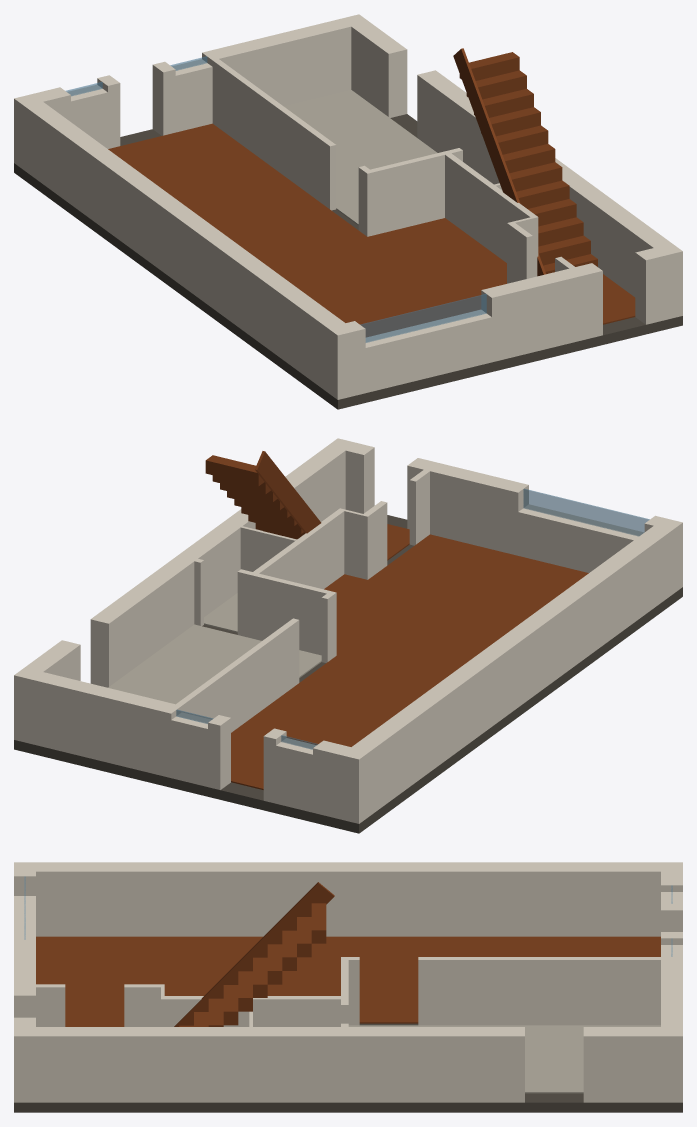
Rendered from house.obj.
3 views of the same model, one above another, from view 1: azimuth 30°, elevation 25°; view 2: azimuth 150°, elevation 25°; view 3: azimuth 270°, elevation 25° (orthographic). The views are drawn at different scales.
Parts seen in each view (by area): view 1: room_living_dining, gf_wall_party_seg0, gf_wall_kitchen_w_seg0, gf_wall_front_seg1, slab_ground, room_kitchen, gf_wall_front_sill0, gf_wall_kitchen_s_seg0, gf_wall_store_w_seg0, gf_wall_back_seg3b, gf_wall_side_seg0, gf_wall_front_seg2 (+28 smaller); view 2: room_living_dining, gf_wall_party_seg0, slab_ground, gf_wall_front_seg1, gf_wall_side_seg2, gf_wall_kitchen_w_seg0, room_kitchen, gf_wall_front_sill0, gf_wall_kitchen_s_seg0, gf_wall_back_seg3b, gf_wall_back_seg0, gf_wall_store_w_seg0 (+23 smaller); view 3: gf_wall_party_seg0, room_living_dining, gf_wall_side_seg2, gf_wall_kitchen_w_seg0, gf_wall_side_seg3, slab_ground, gf_wall_side_seg1b, gf_wall_side_seg0, room_kitchen, gf_wall_store_w_seg0, stair_stringer, gf_wall_back_seg4 (+22 smaller).
Part boxes in pixels (bbox=[...]): room_living_dining: bbox=[108, 123, 506, 337]; gf_wall_party_seg0: bbox=[24, 102, 345, 391]; gf_wall_kitchen_w_seg0: bbox=[212, 59, 336, 210]; gf_wall_front_seg1: bbox=[481, 263, 602, 362]; slab_ground: bbox=[14, 114, 682, 409]; room_kitchen: bbox=[284, 90, 437, 225]; gf_wall_front_sill0: bbox=[365, 310, 491, 392]; gf_wall_kitchen_s_seg0: bbox=[364, 148, 462, 236]; gf_wall_store_w_seg0: bbox=[445, 153, 538, 276]; gf_wall_back_seg3b: bbox=[242, 26, 320, 106]; gf_wall_side_seg0: bbox=[351, 22, 407, 117]; gf_wall_front_seg2: bbox=[635, 243, 682, 324]; room_living_dining: bbox=[231, 534, 588, 789]; gf_wall_party_seg0: bbox=[351, 526, 672, 815]; slab_ground: bbox=[14, 515, 682, 833]; gf_wall_front_seg1: bbox=[407, 458, 528, 555]; gf_wall_side_seg2: bbox=[139, 509, 262, 651]; gf_wall_kitchen_w_seg0: bbox=[176, 618, 299, 732]; room_kitchen: bbox=[108, 624, 321, 704]; gf_wall_front_sill0: bbox=[518, 504, 643, 572]; gf_wall_kitchen_s_seg0: bbox=[237, 569, 336, 657]; gf_wall_back_seg3b: bbox=[63, 679, 141, 768]; gf_wall_back_seg0: bbox=[313, 740, 369, 823]; gf_wall_store_w_seg0: bbox=[253, 508, 345, 589]; gf_wall_party_seg0: bbox=[36, 862, 660, 936]; room_living_dining: bbox=[36, 936, 660, 1026]; gf_wall_side_seg2: bbox=[168, 1027, 425, 1102]; gf_wall_kitchen_w_seg0: bbox=[418, 957, 660, 1025]; gf_wall_side_seg3: bbox=[36, 1027, 146, 1102]; slab_ground: bbox=[14, 1023, 682, 1112]; gf_wall_side_seg1b: bbox=[425, 1027, 506, 1102]; gf_wall_side_seg0: bbox=[583, 1027, 660, 1102]; room_kitchen: bbox=[348, 1025, 660, 1093]; gf_wall_store_w_seg0: bbox=[161, 996, 340, 1026]; stair_stringer: bbox=[174, 882, 334, 1026]; gf_wall_back_seg4: bbox=[661, 1011, 682, 1102].
Size of the model in its own units: 5.6 by 2.9 by 9.1.
